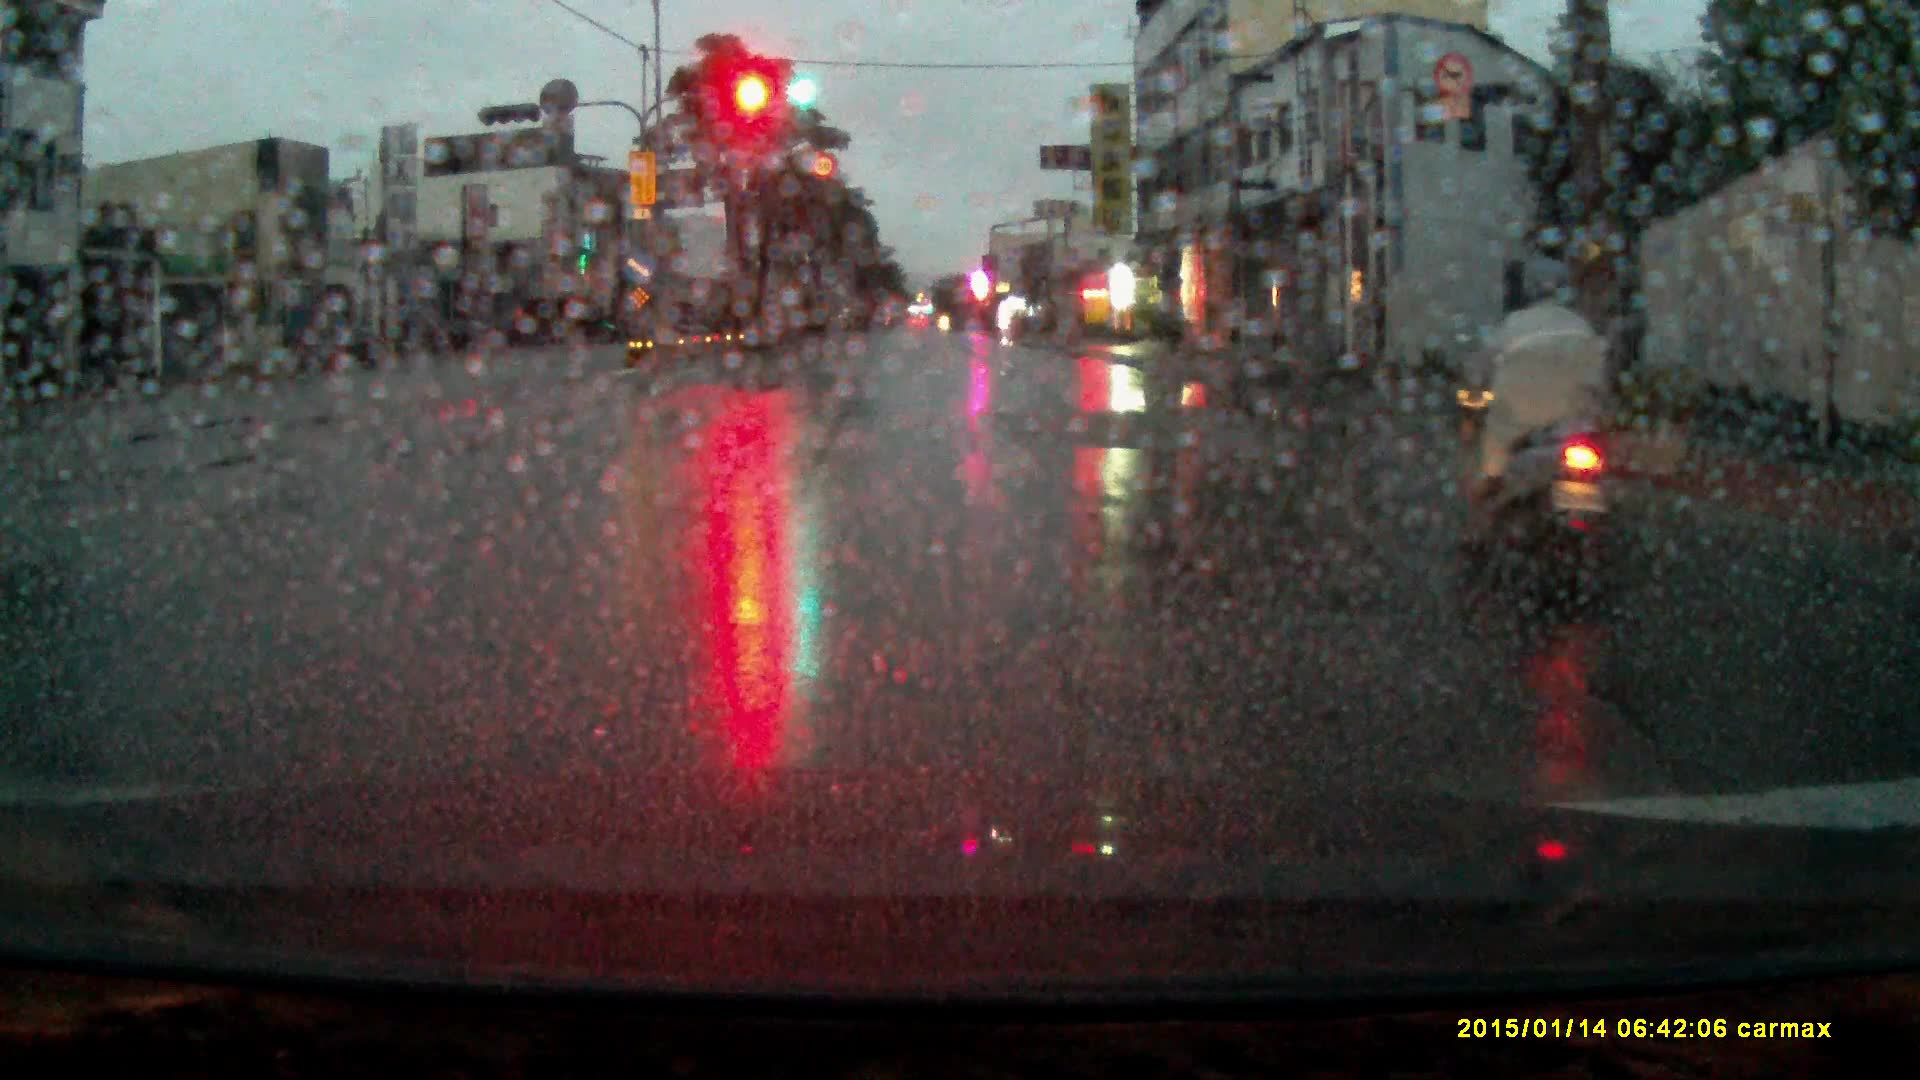rider: (1465, 251, 1650, 617)
